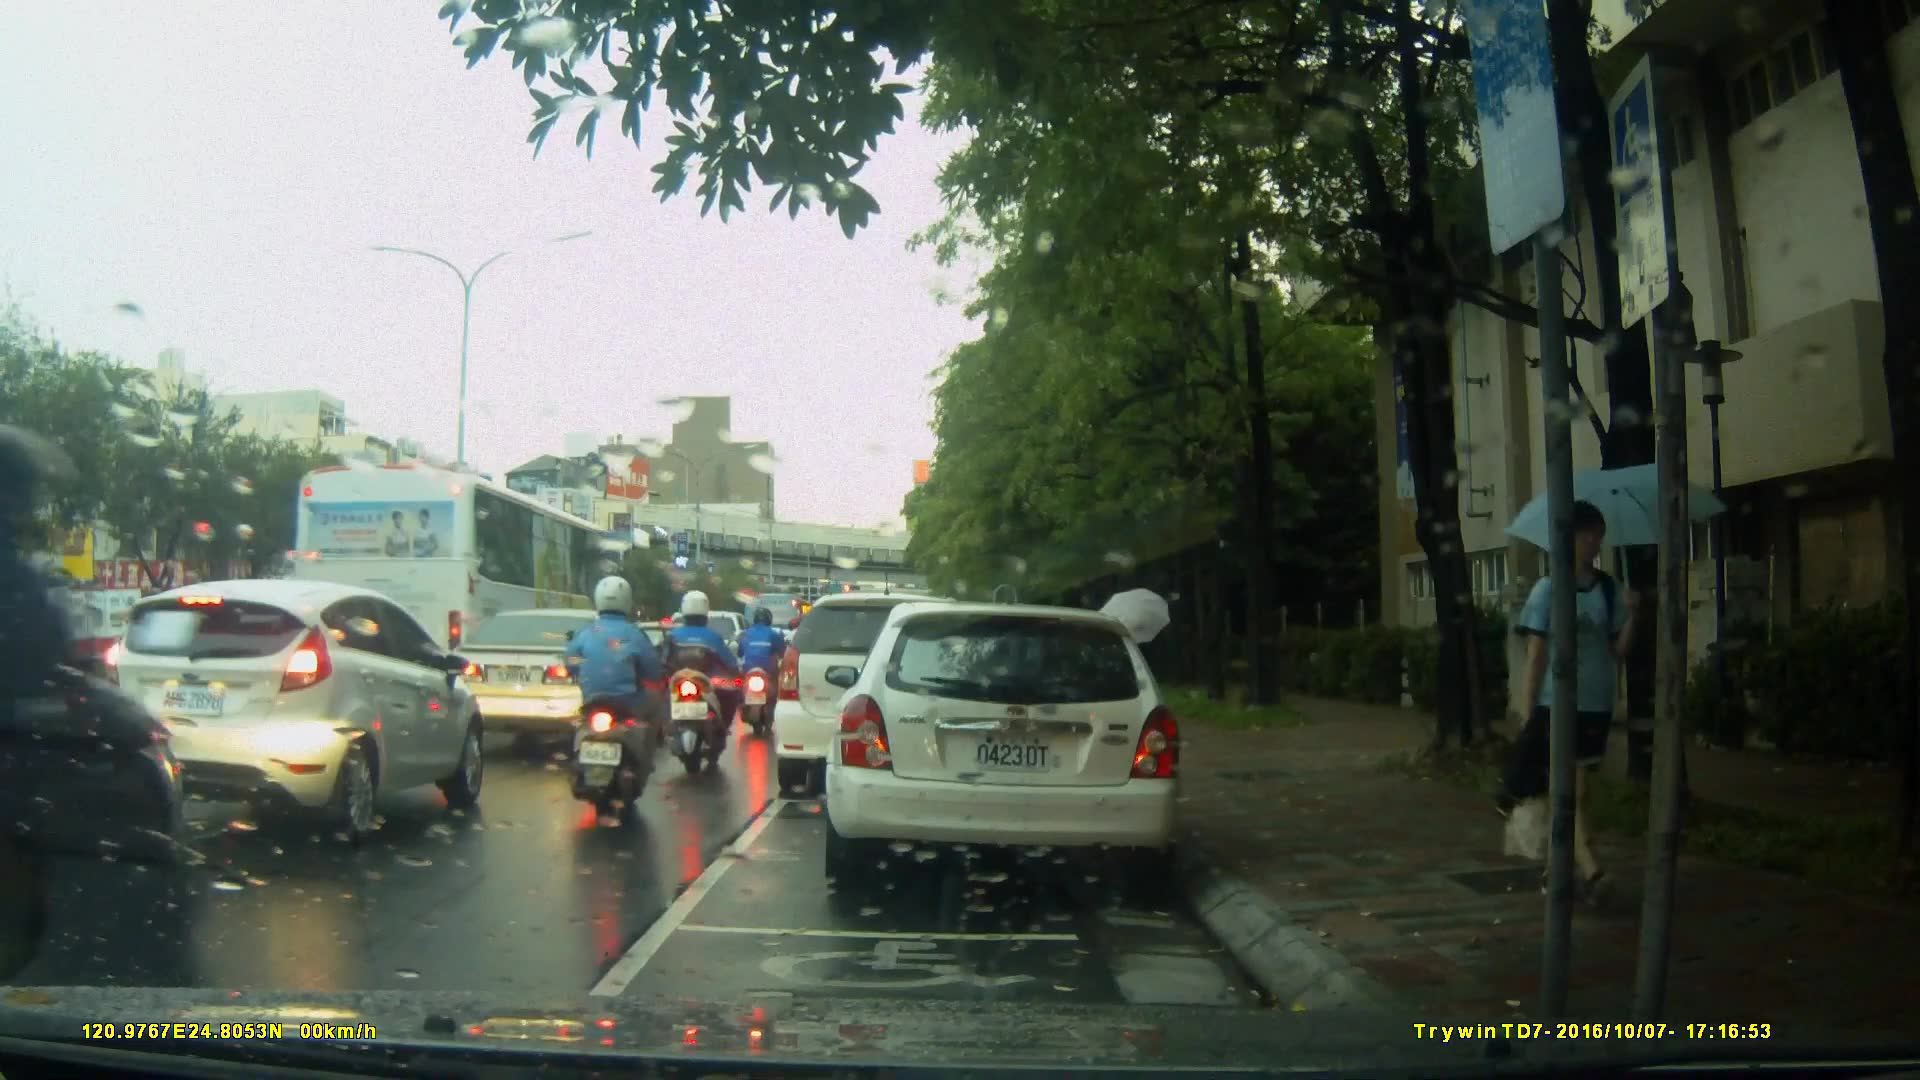pedestrian: (1493, 495, 1651, 931)
rider: (1, 415, 214, 1059), (563, 576, 683, 813), (661, 587, 740, 789), (731, 605, 786, 746)
vehicle: (835, 594, 1194, 898), (100, 576, 488, 846), (290, 463, 627, 727), (1, 547, 184, 971), (776, 590, 1026, 784), (436, 606, 672, 752), (1, 586, 155, 697), (612, 620, 718, 710)
